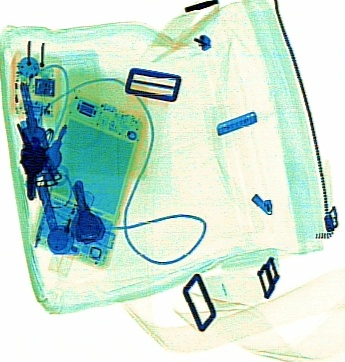lighter: (46, 186, 95, 276)
